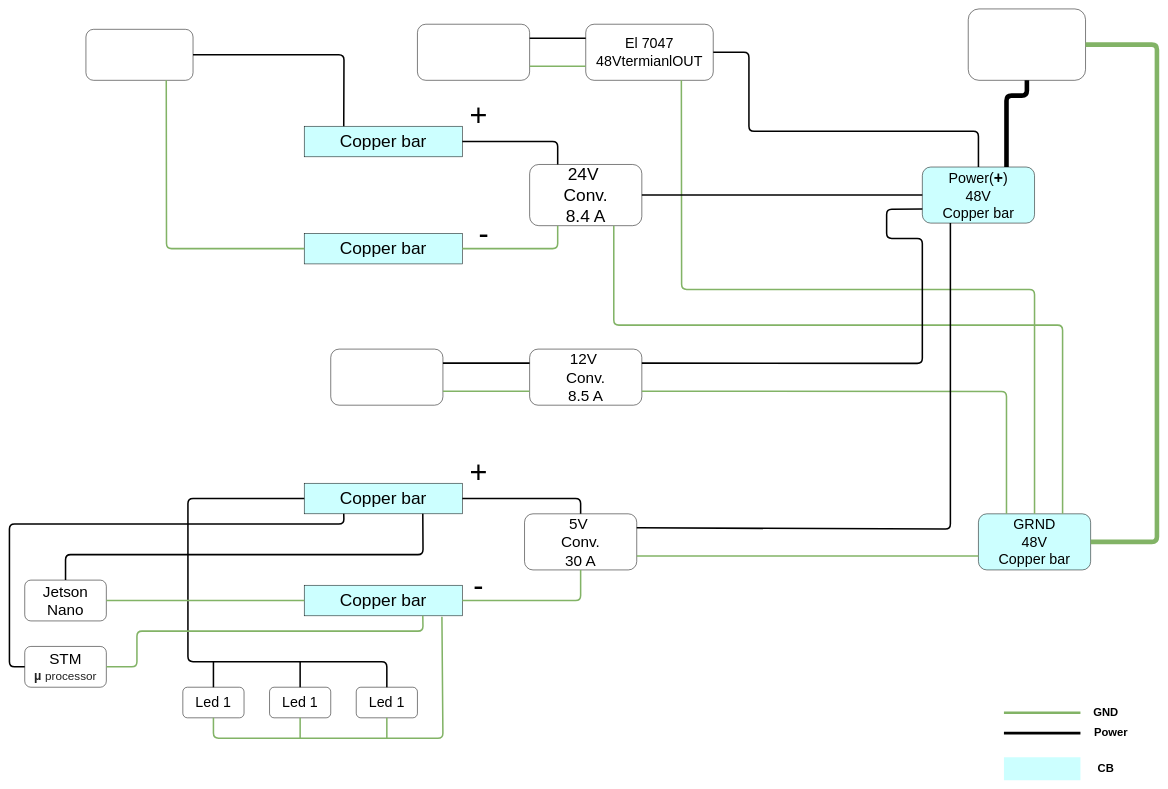
Some shapes in this 1168 by 789 pixel diagram are drawn without their labels. Here are the shapes that lost their labels. From the top down, the centre of each, then its label:
point (139, 54): PLC cx9020
point (473, 52): Stepper
point (1027, 44): 48V Conv. 50A
point (386, 377): Zedboard
